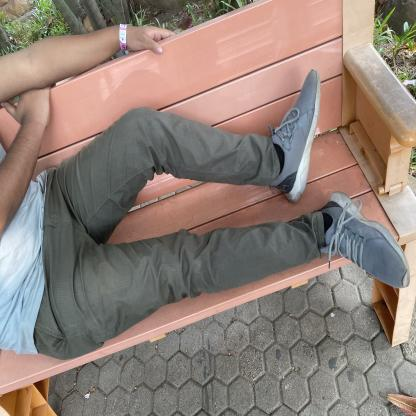hand: (30, 9, 178, 63)
leg: (168, 55, 327, 206), (247, 184, 416, 300)
